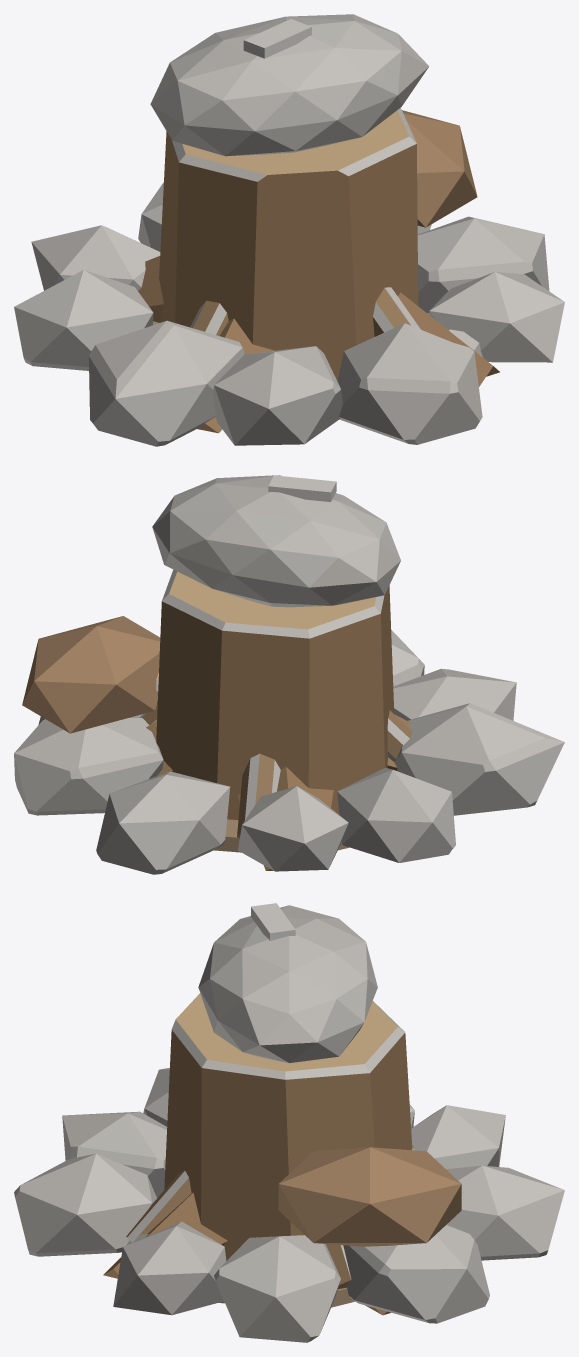
Rendered from asset_forge_idle.glb.
3 views of the same model, one above another, from view 1: azimuth 30°, elevation 25°; view 2: azimuth 150°, elevation 25°; view 3: azimuth 270°, elevation 25° (orthographic). The views are drawn at different scales.
Parts seen in each view (by area): view 1: asset_forge_idle; view 2: asset_forge_idle; view 3: asset_forge_idle.
Boxes of the visible parts, box(x1,y1,x2,y2) form: asset_forge_idle: box(14, 14, 564, 446); asset_forge_idle: box(14, 475, 564, 874); asset_forge_idle: box(14, 903, 564, 1342).
Bounding box in the file's own units: 0.9795 × 0.62 × 0.9996.
